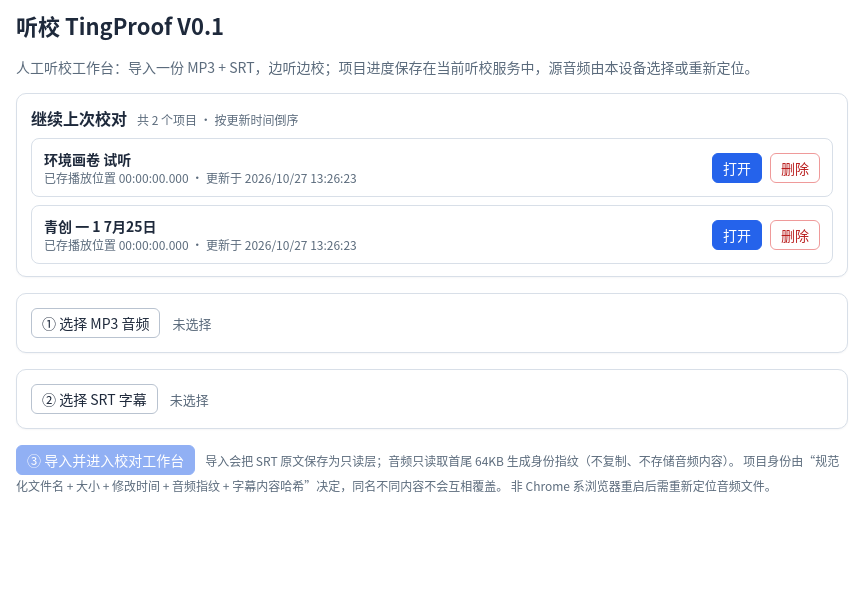
Scenario: ImportScreen 删除历史记录（AC-066） › 幽灵条目防护：删除成功后，迟到的旧列表响应不能复活已删除条目（多项目并发安全）
Expected: the number of list items is 2, [31,138,833,197]; [31,205,833,264]
# B：删除 → 409 → 安全刷新挂起（B 条目处于删除中）。
Click the button with aria-label "删除 环境画卷 试听". click: (795, 168)
box: [770,152,820,182]
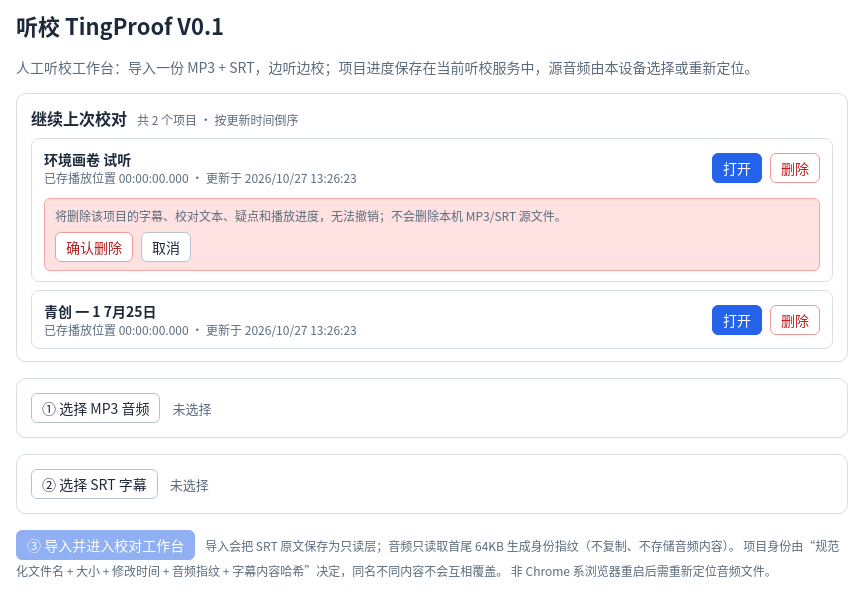
Click the button with aria-label "确认删除 环境画卷 试听". click: (94, 247)
box: [55,232,133,262]
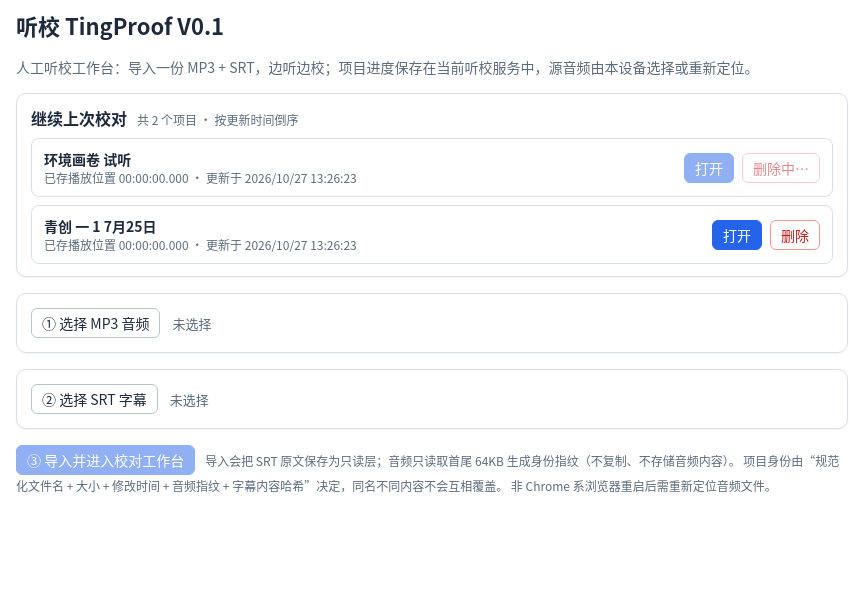
# 并发删除另一个项目 A（不受 B 阻塞）：真实实现成功，本地立即移除。
Click the button with aria-label "删除 青创 一 1 7月25日". click: (795, 234)
box: [770,220,820,250]
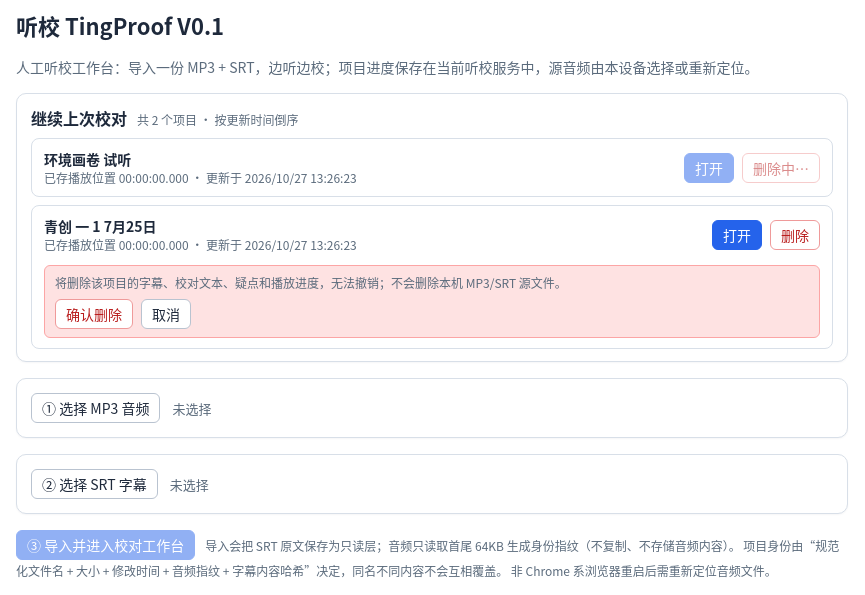
Click the button with aria-label "确认删除 青创 一 1 7月25日". click: (94, 314)
box: [55,299,133,329]
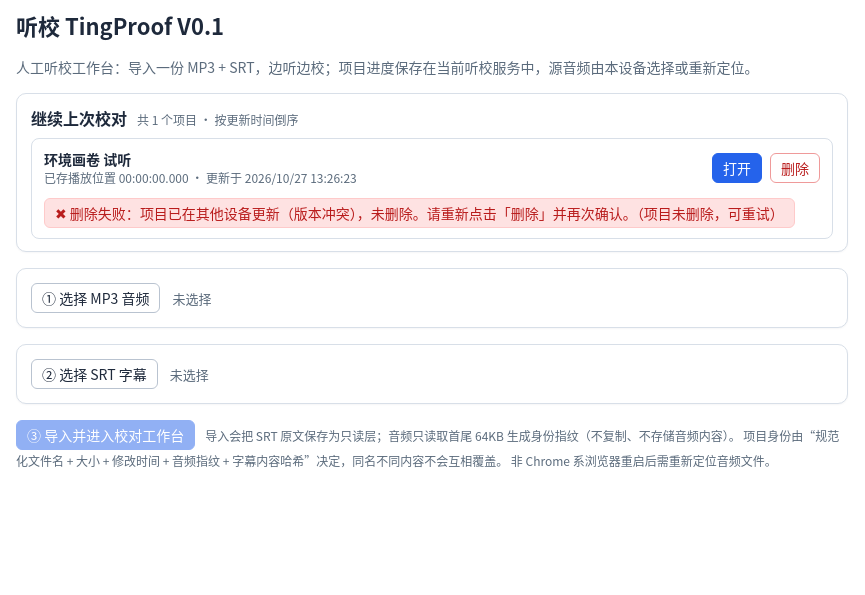
Expected: the list "删除 青创 一 1 7月25日" is not shown
Now the number of list items is 1, box [31,138,833,239]
Now the message shows "版本冲突", box [140,203,637,223]
